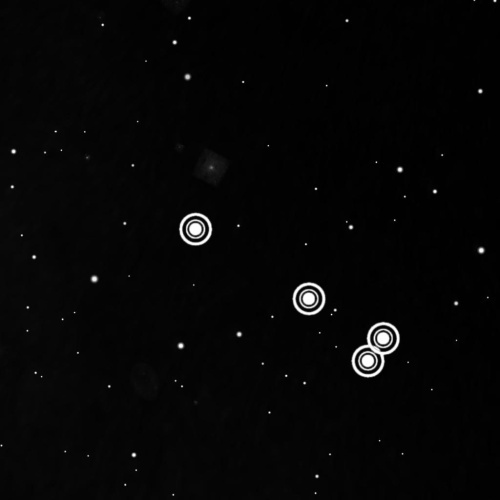sagitta: (171, 201, 406, 384)
